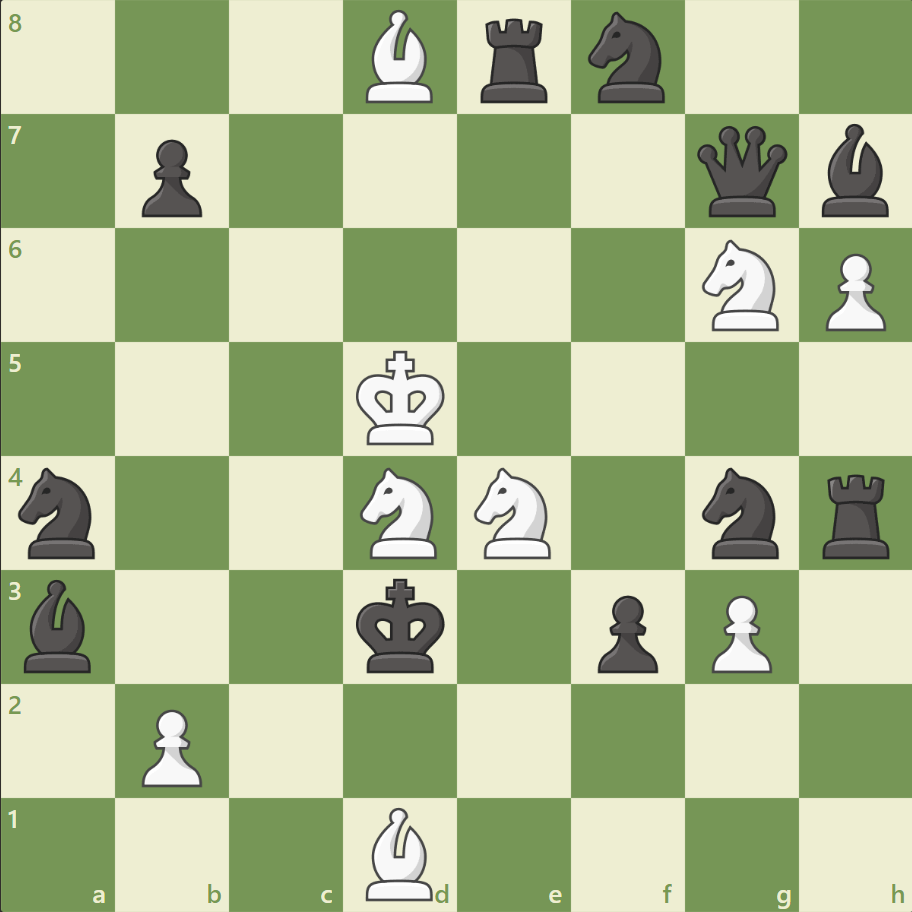B: (358, 6, 442, 109), (358, 801, 442, 904)
K: (351, 344, 451, 452)
N: (351, 461, 449, 564), (692, 234, 789, 337), (465, 461, 562, 564)
P: (701, 586, 776, 677), (133, 700, 208, 791), (815, 246, 889, 337)
b: (812, 120, 896, 222), (17, 574, 101, 676)
k: (351, 571, 451, 679)
n: (579, 7, 676, 110), (11, 461, 108, 564), (692, 461, 789, 564)
p: (133, 132, 208, 223), (588, 586, 662, 677)
q: (691, 122, 790, 222)
r: (473, 12, 556, 109), (814, 466, 897, 563)
